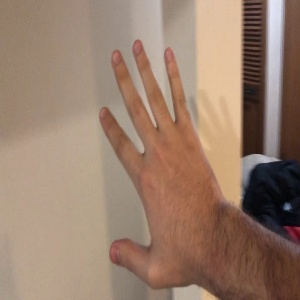hand: (99, 39, 224, 288)
